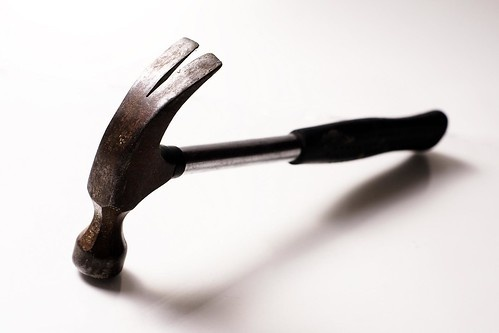hammer: (70, 35, 451, 292)
